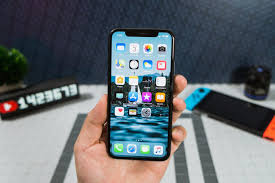iphone10: (106, 25, 178, 162)
